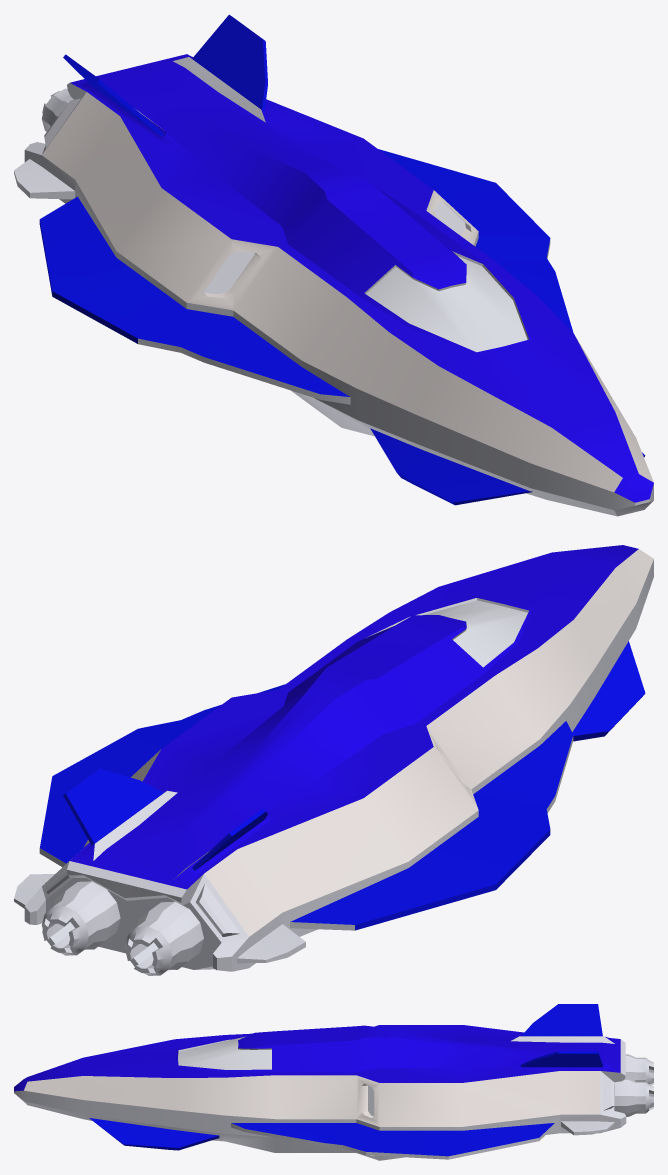
The model's file is spaceship-05.glb.
3 renders of one model, top to bottom at view 1: azimuth 30°, elevation 25°; view 2: azimuth 150°, elevation 25°; view 3: azimuth 270°, elevation 25°, orthographic. The views are drawn at different scales.
Visible parts, largest first — view 1: ship.003, ship.002, ship.050, ship.127, ship.004, ship.204, ship.053, ship.136, ship.005, ship.009, ship.052, ship.010 (+3 smaller); view 2: ship.003, ship.002, ship.050, ship.127, ship.136, ship.204, ship.053, ship.004, ship.009, ship.012, ship.010, ship.166 (+9 smaller); view 3: ship.002, ship.003, ship.127, ship.084, ship.005, ship.204, ship.131, ship.060, ship.088, ship.136, ship.056, ship.130 (+6 smaller).
Part boxes in pixels (x1=…): ship.003: x1=70, y1=54, x2=653, y2=502; ship.002: x1=42, y1=92, x2=653, y2=492; ship.050: x1=39, y1=196, x2=349, y2=396; ship.127: x1=378, y1=149, x2=573, y2=332; ship.004: x1=233, y1=311, x2=634, y2=510; ship.204: x1=366, y1=256, x2=527, y2=352; ship.053: x1=370, y1=428, x2=532, y2=505; ship.136: x1=192, y1=14, x2=267, y2=111; ship.005: x1=291, y1=390, x2=616, y2=516; ship.009: x1=24, y1=150, x2=186, y2=308; ship.052: x1=138, y1=338, x2=350, y2=404; ship.010: x1=14, y1=159, x2=74, y2=192; ship.003: x1=70, y1=545, x2=638, y2=889; ship.002: x1=83, y1=549, x2=653, y2=936; ship.050: x1=290, y1=721, x2=573, y2=930; ship.127: x1=40, y1=684, x2=285, y2=863; ship.136: x1=63, y1=768, x2=163, y2=845; ship.204: x1=425, y1=600, x2=527, y2=667; ship.053: x1=572, y1=641, x2=645, y2=741; ship.004: x1=471, y1=559, x2=653, y2=794; ship.009: x1=232, y1=810, x2=478, y2=971; ship.012: x1=46, y1=878, x2=221, y2=969; ship.010: x1=237, y1=924, x2=305, y2=959; ship.166: x1=67, y1=861, x2=186, y2=897; ship.002: x1=24, y1=1071, x2=600, y2=1126; ship.003: x1=14, y1=1025, x2=620, y2=1091; ship.127: x1=232, y1=1123, x2=554, y2=1156; ship.084: x1=14, y1=1090, x2=356, y2=1137; ship.005: x1=24, y1=1101, x2=404, y2=1160; ship.204: x1=178, y1=1036, x2=271, y2=1069; ship.131: x1=89, y1=1118, x2=219, y2=1150; ship.060: x1=521, y1=1004, x2=602, y2=1036; ship.088: x1=379, y1=1114, x2=620, y2=1134; ship.136: x1=520, y1=1051, x2=602, y2=1067; ship.056: x1=511, y1=1036, x2=614, y2=1043; ship.130: x1=231, y1=1123, x2=365, y2=1154.
Bounding box in the file's own units: 8.14 × 3.04 × 17.22.
